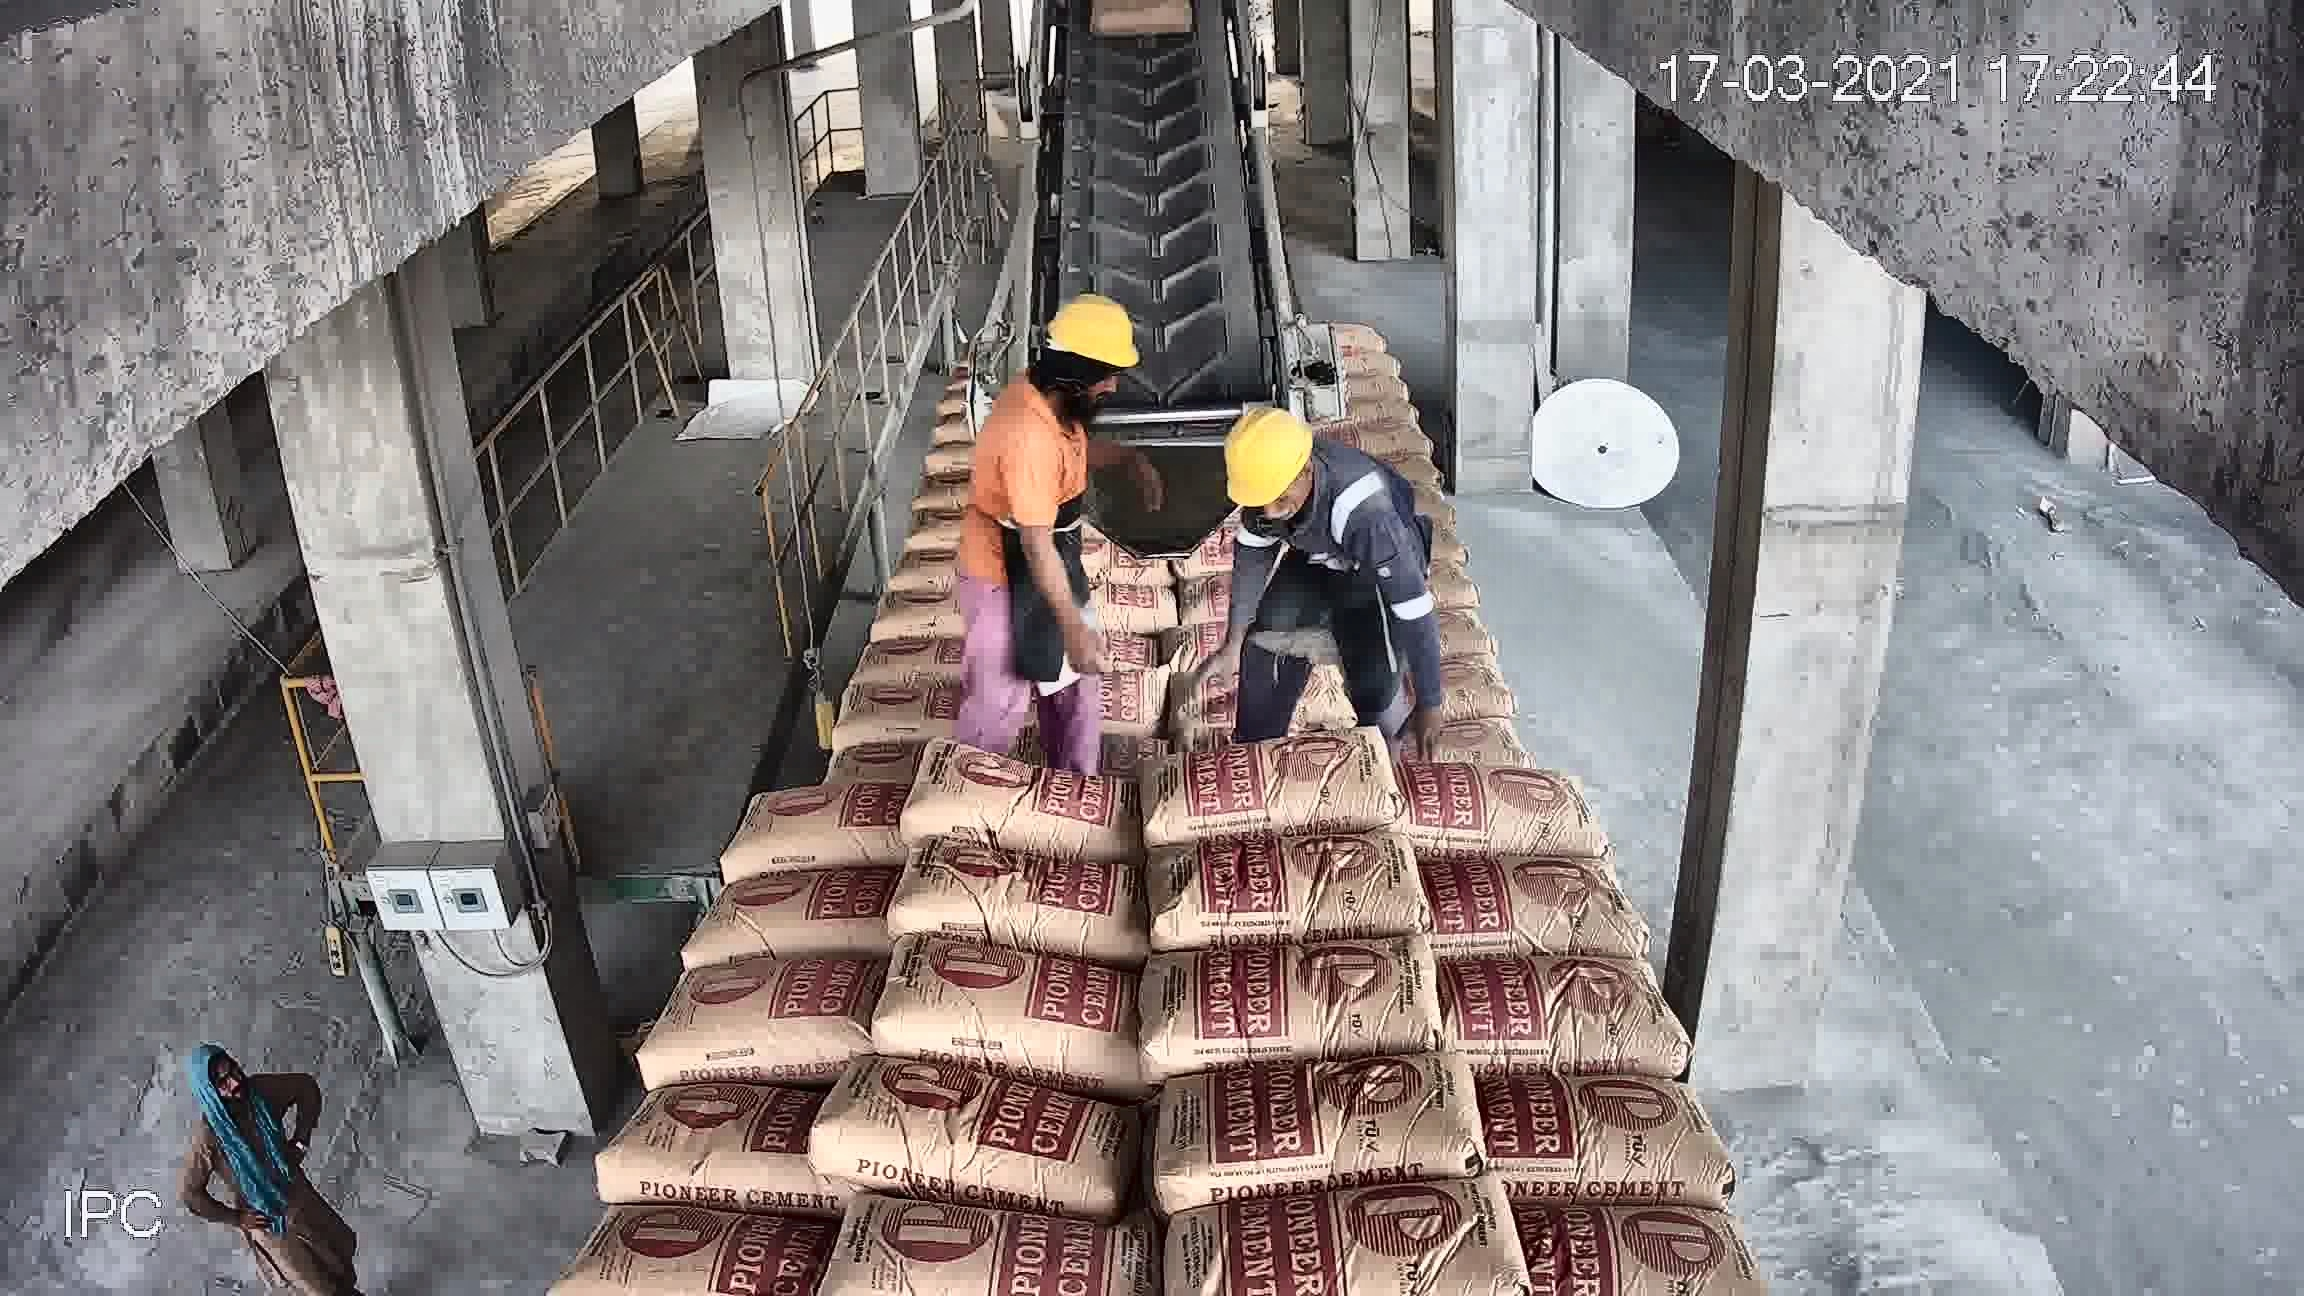bag: (1043, 388, 1241, 506), (1093, 120, 1220, 241)
bag_h: (1128, 1044, 1499, 1193), (1120, 918, 1453, 1078), (1147, 1168, 1503, 1282), (1138, 817, 1429, 956), (570, 1067, 832, 1214), (1135, 718, 1421, 845), (847, 1071, 1165, 1184), (1468, 1074, 1711, 1214), (1412, 954, 1657, 1089), (606, 956, 897, 1068), (870, 961, 1161, 1067), (1133, 567, 1381, 677), (1410, 842, 1620, 964), (891, 858, 1139, 961), (828, 1220, 1157, 1293), (1487, 1199, 1734, 1296), (660, 859, 904, 956), (552, 1220, 840, 1296), (1383, 756, 1581, 866), (1124, 665, 1377, 748), (704, 772, 921, 867), (739, 698, 937, 788), (907, 772, 1147, 845), (937, 688, 1157, 763), (775, 635, 956, 718), (980, 604, 1166, 680), (1416, 692, 1570, 783), (1361, 609, 1532, 688), (1348, 513, 1483, 568), (864, 585, 978, 635), (892, 541, 987, 593), (1405, 555, 1475, 623), (896, 505, 991, 546)
belt: (1032, 19, 1275, 457)
